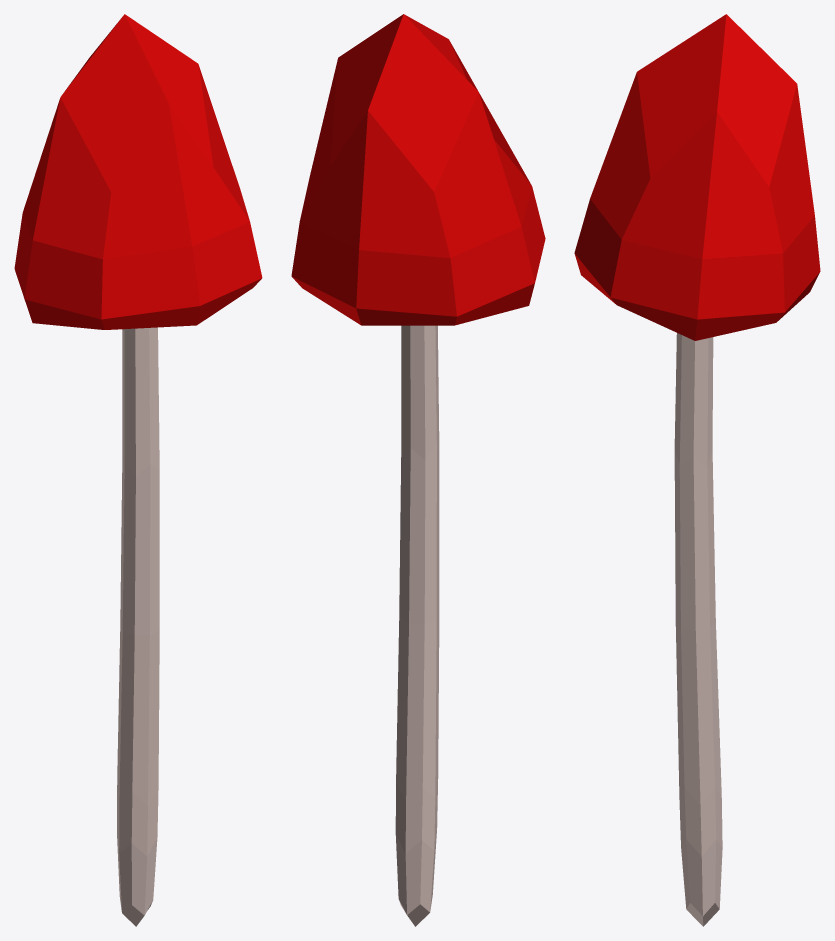
File: MUSH_LONG_RED.fbx
3 views of the same model, side by side, from view 1: azimuth 30°, elevation 25°; view 2: azimuth 150°, elevation 25°; view 3: azimuth 270°, elevation 25° (orthographic).
Visible parts, largest first — view 1: pCube17, pCube18; view 2: pCube17, pCube18; view 3: pCube17, pCube18.
Part boxes in pixels (<box>): pCube17: <box>14,14,262,329</box>; pCube18: <box>117,327,159,926</box>; pCube17: <box>291,14,545,325</box>; pCube18: <box>395,325,439,926</box>; pCube17: <box>574,14,820,340</box>; pCube18: <box>674,333,722,926</box>.
Bounding box in the file's own units: 5.66 × 21.36 × 5.22.
